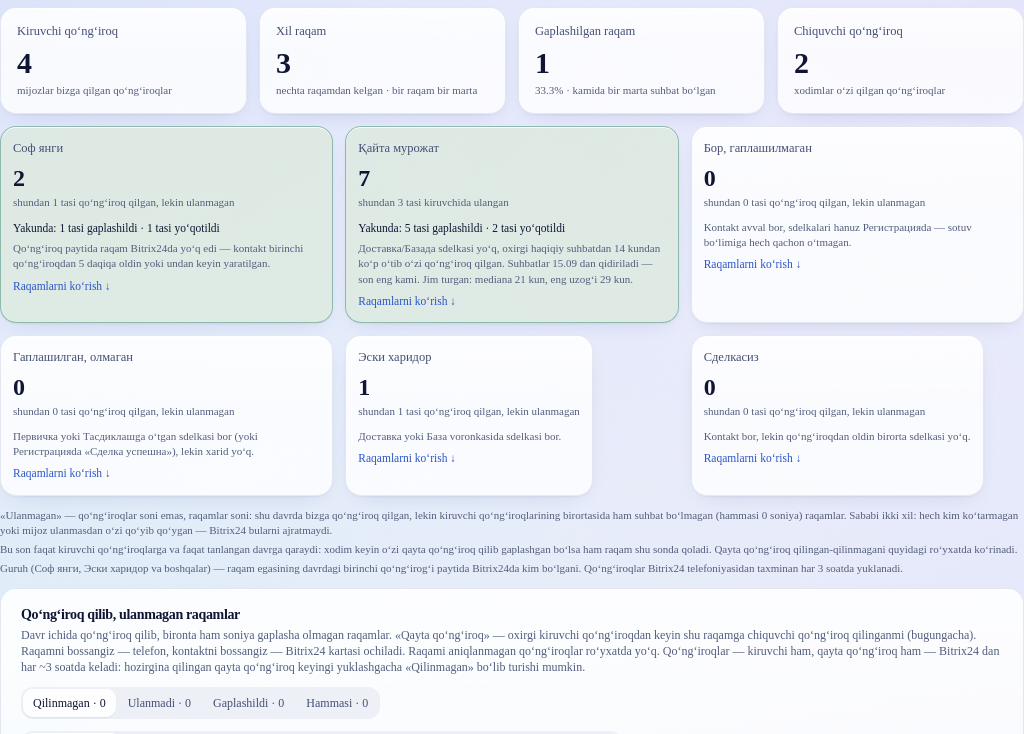
Test: «Қайта мурожат» — the CLAUDE.md's figures on the tiles (2026-10-22) › opens its numbers — the lost ones first — and shows the day column
The width and height of the screenshot is (1024, 734).
Expected: the text "Yakunda: 5 tasi gaplashildi · 2 tasi yoʻqotildi" is shown, [358, 222, 565, 234]
Click the button "Қайта мурожат".
click(512, 224)  # box [345, 126, 679, 323]
(page scrolled)
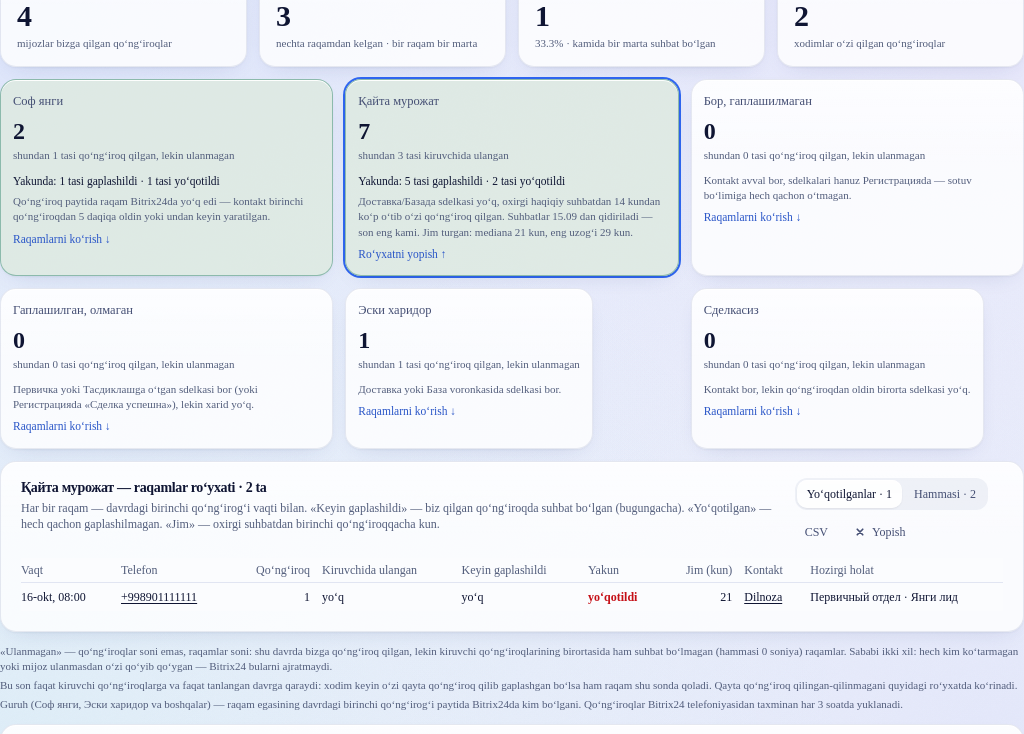
Expected: the link "+998901111111" is shown, [121, 590, 197, 604]
Click the button "Hammasi · 2".
click(945, 494)  # box [904, 480, 986, 508]
(page scrolled)
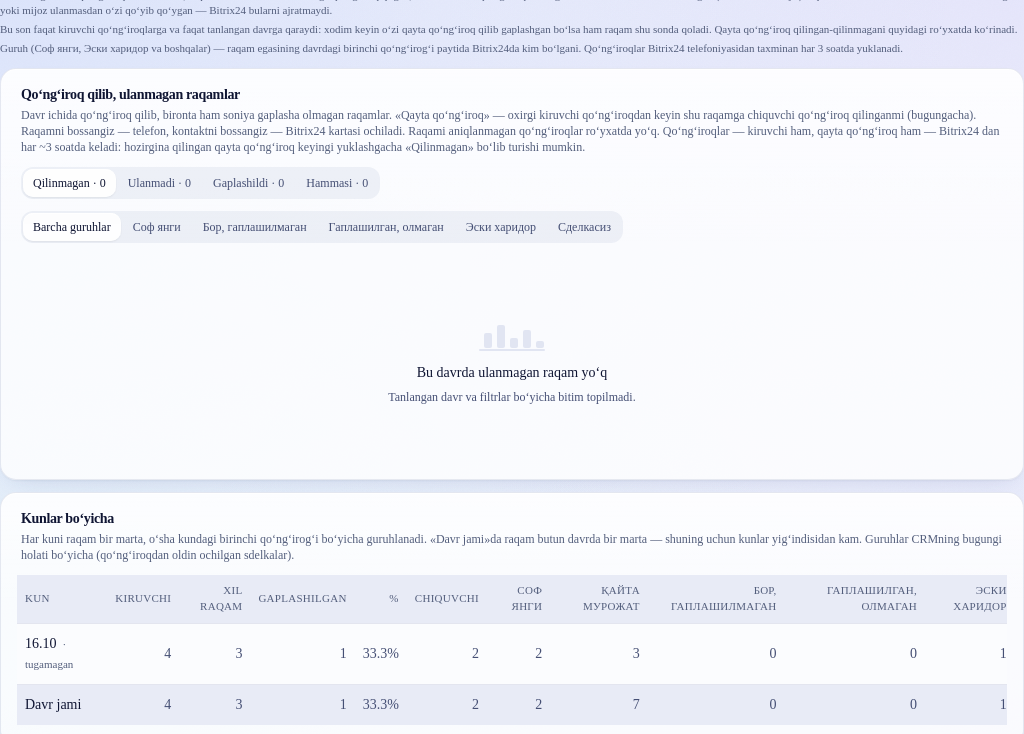
Expected: the column heading "Қайта мурожат" is shown, [550, 575, 648, 623]
